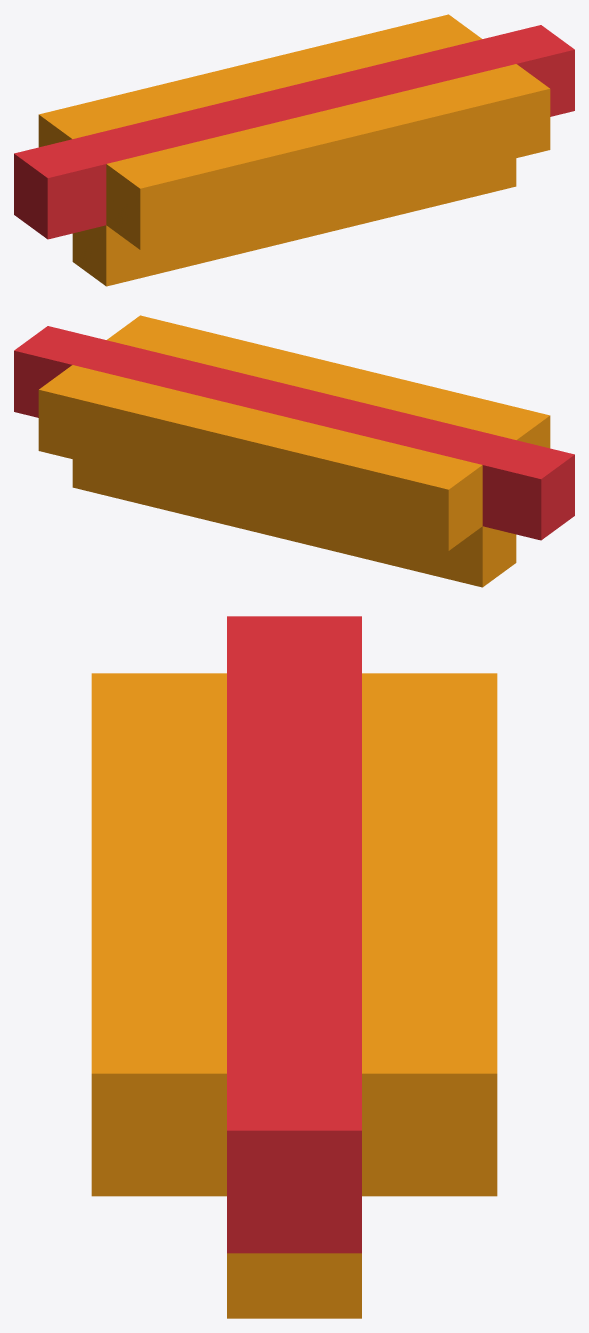
File: HotDog.obj
3 renders of one model, top to bottom at view 1: azimuth 30°, elevation 25°; view 2: azimuth 150°, elevation 25°; view 3: azimuth 270°, elevation 25°, orthographic. The views are drawn at different scales.
Parts seen in each view (by area): view 1: HotDog; view 2: HotDog; view 3: HotDog.
Part boxes in pixels (left/top/right/bottom): HotDog: left=14, top=14, right=574, bottom=286; HotDog: left=14, top=315, right=574, bottom=587; HotDog: left=91, top=616, right=497, bottom=1318.
Bounding box in the file's own units: 9 × 2 × 3.
1 material, 1 textured.
